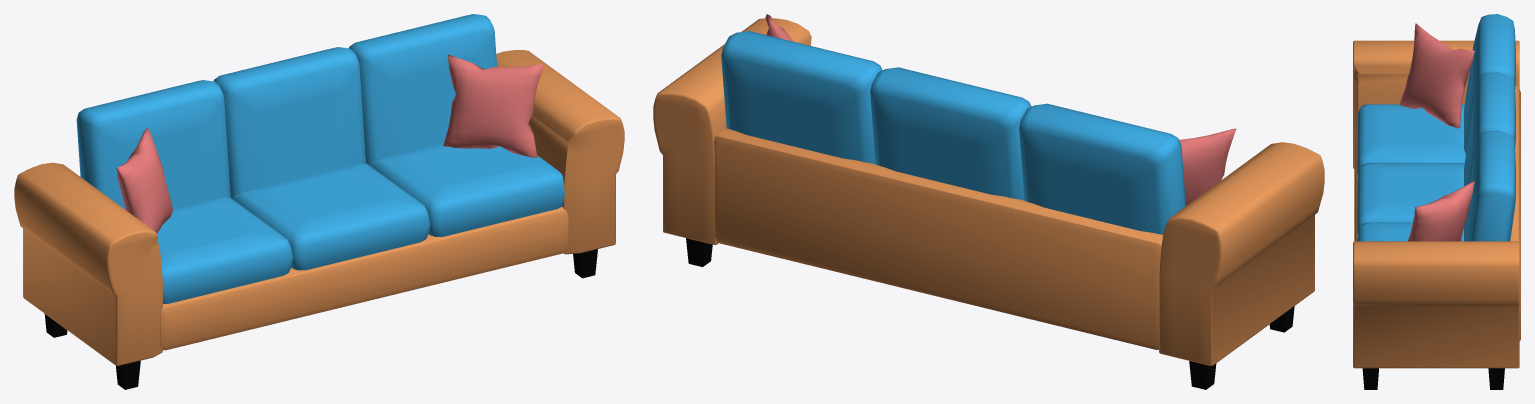
File: SM_grand_sofa.fbx
The picture shows the model from 3 angles, left to right: view 1: azimuth 30°, elevation 25°; view 2: azimuth 150°, elevation 25°; view 3: azimuth 270°, elevation 25°; orthographic projection. The views are drawn at different scales.
Visible parts, largest first — view 1: Cube.019, Cube.018, Cube.017, Cube.016, Plane.008, Cube.020; view 2: Cube.016, Cube.019, Cube.017, Plane.008, Cube.020; view 3: Cube.017, Cube.018, Cube.019, Plane.008, Cube.016, Cube.020.
Part boxes in pixels (x1,y1,x2,y2): Cube.019: (76,14,496,209); Cube.018: (157,143,564,303); Cube.017: (14,50,624,365); Cube.016: (160,207,568,350); Plane.008: (116,54,544,233); Cube.020: (44,249,597,389); Cube.016: (714,128,1163,349); Cube.019: (721,31,1185,234); Cube.017: (653,18,1324,365); Plane.008: (765,14,1236,205); Cube.020: (686,238,1294,389); Cube.017: (1353,40,1519,368); Cube.018: (1357,104,1465,241); Cube.019: (1464,14,1515,241); Plane.008: (1399,23,1474,241); Cube.016: (1354,86,1520,341); Cube.020: (1362,368,1504,389).
Size of the model in its own units: 406 by 161 by 129.
